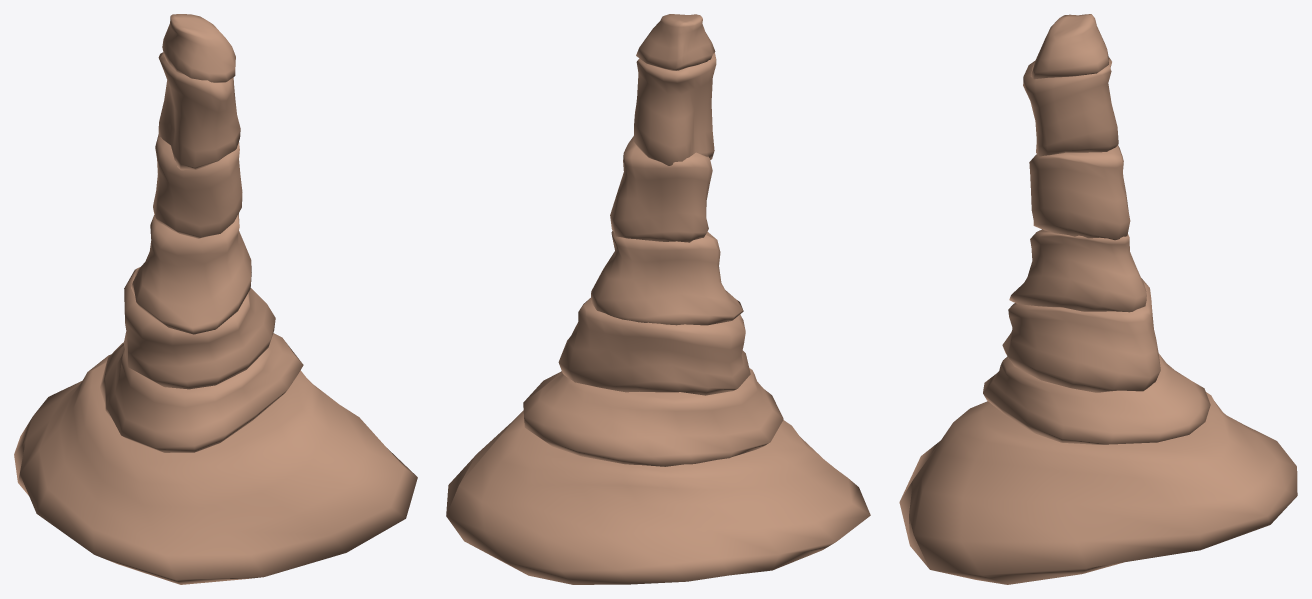
File: obs_stal_down02.fbx
3 views of the same model, side by side, from view 1: azimuth 30°, elevation 25°; view 2: azimuth 150°, elevation 25°; view 3: azimuth 270°, elevation 25° (orthographic). The views are drawn at different scales.
Visible parts, largest first — view 1: stal.083; view 2: stal.083; view 3: stal.083.
Boxes of the visible parts, left/top/right/bottom form: stal.083: left=14, top=14, right=417, bottom=584; stal.083: left=446, top=14, right=870, bottom=584; stal.083: left=899, top=14, right=1297, bottom=584.
Size of the model in its own units: 0.7116 by 1.02 by 0.7359.
